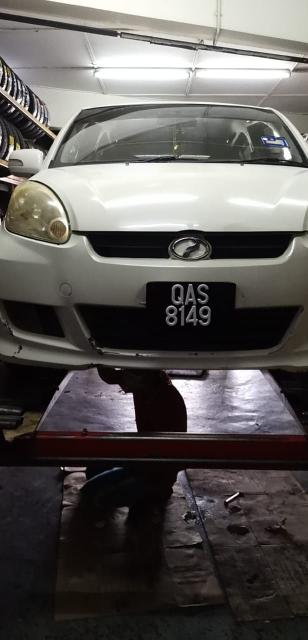License_Plate: (142, 274, 234, 330)
car: (1, 86, 308, 381)
